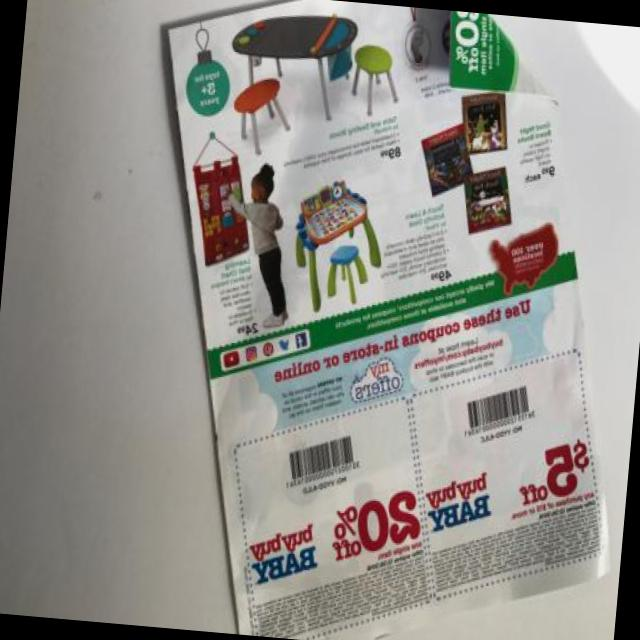paper: (180, 0, 575, 640)
